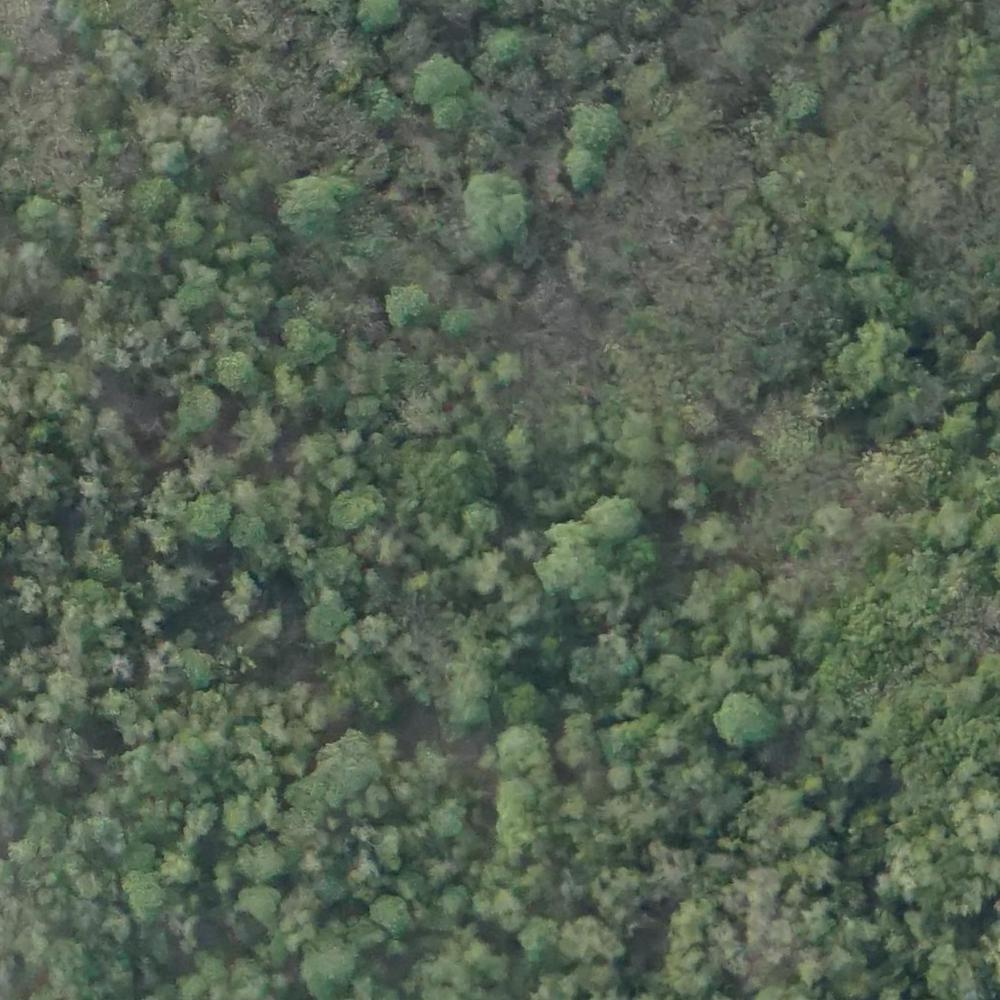tree: (742, 791, 819, 856), (315, 731, 383, 799), (283, 177, 351, 238), (470, 171, 535, 232), (714, 687, 776, 748), (410, 46, 478, 100), (562, 908, 614, 967), (497, 720, 552, 771), (119, 870, 169, 921), (285, 317, 336, 365), (219, 346, 263, 398), (515, 907, 555, 962), (769, 72, 825, 111), (172, 389, 221, 433), (690, 518, 742, 559), (563, 144, 606, 191), (188, 117, 232, 161), (238, 888, 282, 931), (335, 492, 392, 525), (573, 104, 625, 140), (459, 500, 503, 540), (385, 279, 423, 325), (176, 653, 218, 694), (175, 266, 215, 309), (368, 891, 408, 932), (500, 677, 537, 721), (493, 887, 533, 927), (423, 804, 465, 841), (101, 693, 142, 730), (592, 500, 629, 539), (306, 608, 351, 640), (726, 445, 766, 481), (231, 520, 265, 560), (249, 619, 291, 651), (138, 178, 178, 211), (361, 1, 403, 31), (434, 96, 470, 128), (492, 779, 530, 807), (155, 141, 189, 172), (562, 729, 592, 762), (181, 802, 214, 830), (442, 309, 472, 338), (283, 531, 311, 559), (399, 872, 420, 896)
